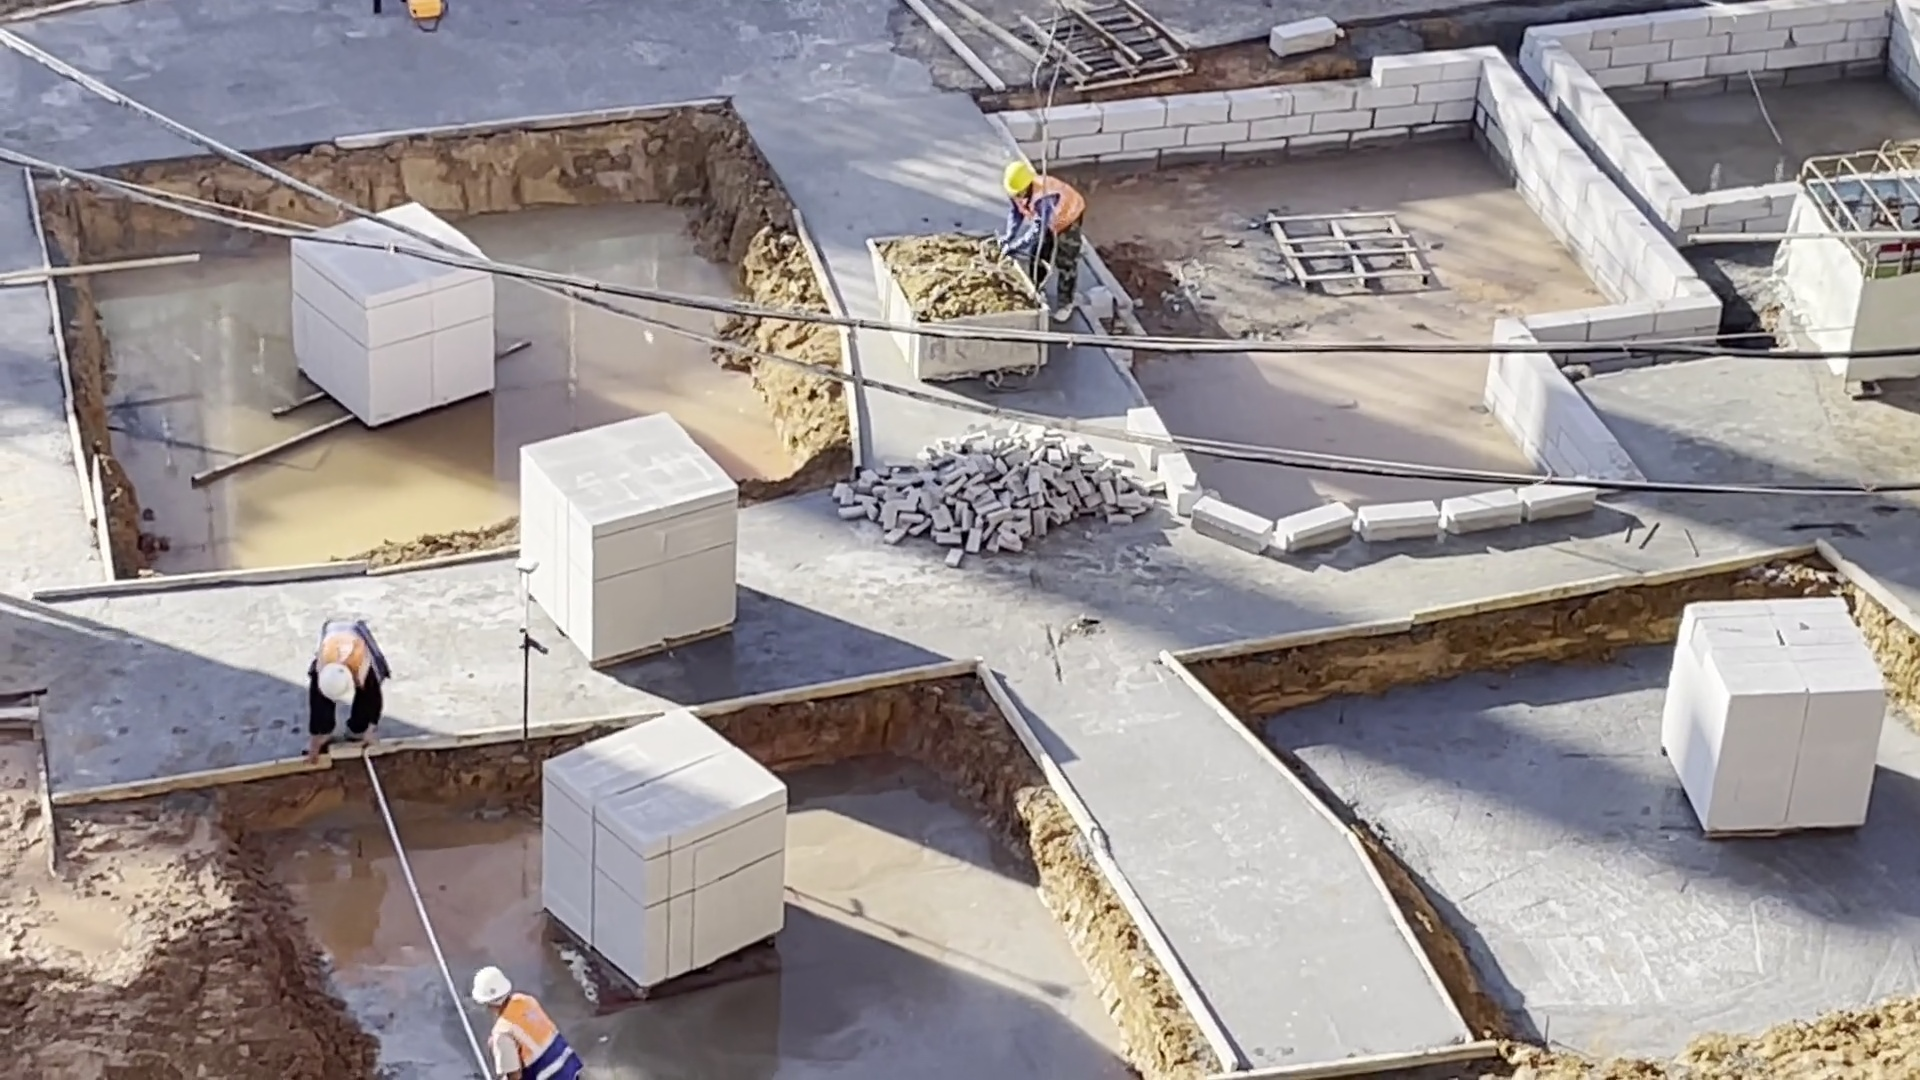brick: (542, 705, 789, 994), (1657, 593, 1891, 846), (508, 411, 741, 661), (284, 276, 504, 431)
helmet: (462, 963, 518, 1004), (317, 661, 358, 704), (1001, 160, 1033, 197)
hopper: (860, 227, 1013, 331)
person: (992, 154, 1088, 328), (463, 960, 590, 1080), (304, 613, 393, 764)
vest: (490, 994, 586, 1080), (312, 619, 387, 680), (1018, 175, 1091, 234)
